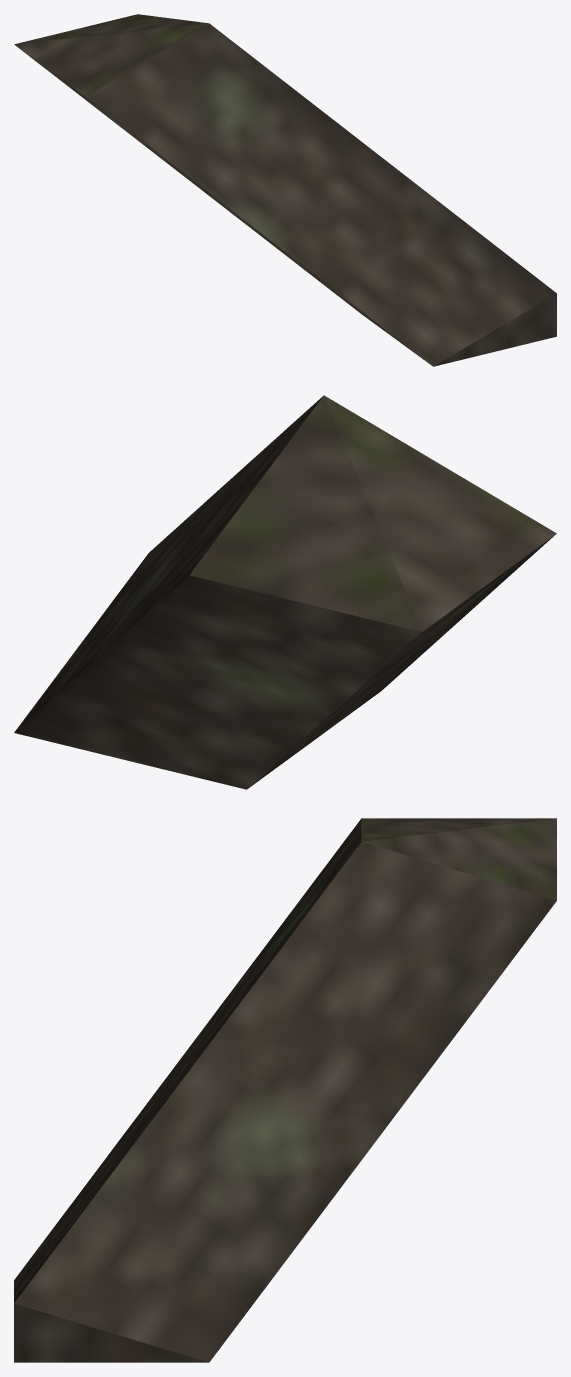
File: spruce_branch_45_diagonal.obj
The picture shows the model from 3 angles, top to bottom: view 1: azimuth 30°, elevation 25°; view 2: azimuth 150°, elevation 25°; view 3: azimuth 270°, elevation 25°; orthographic projection. The views are drawn at different scales.
Parts seen in each view (by area): view 1: cube; view 2: cube; view 3: cube.
Part boxes in pixels (bbox=[...]): cube: bbox=[14, 14, 556, 366]; cube: bbox=[14, 395, 556, 789]; cube: bbox=[14, 818, 556, 1362].
Size of the model in its own units: 1.56 by 1.19 by 1.56.
